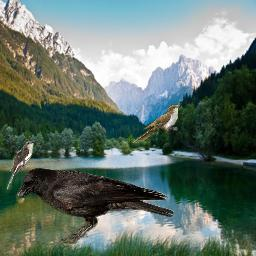Crow: (14, 167, 174, 244)
Cuckoo: (131, 103, 182, 143), (7, 141, 36, 190)
